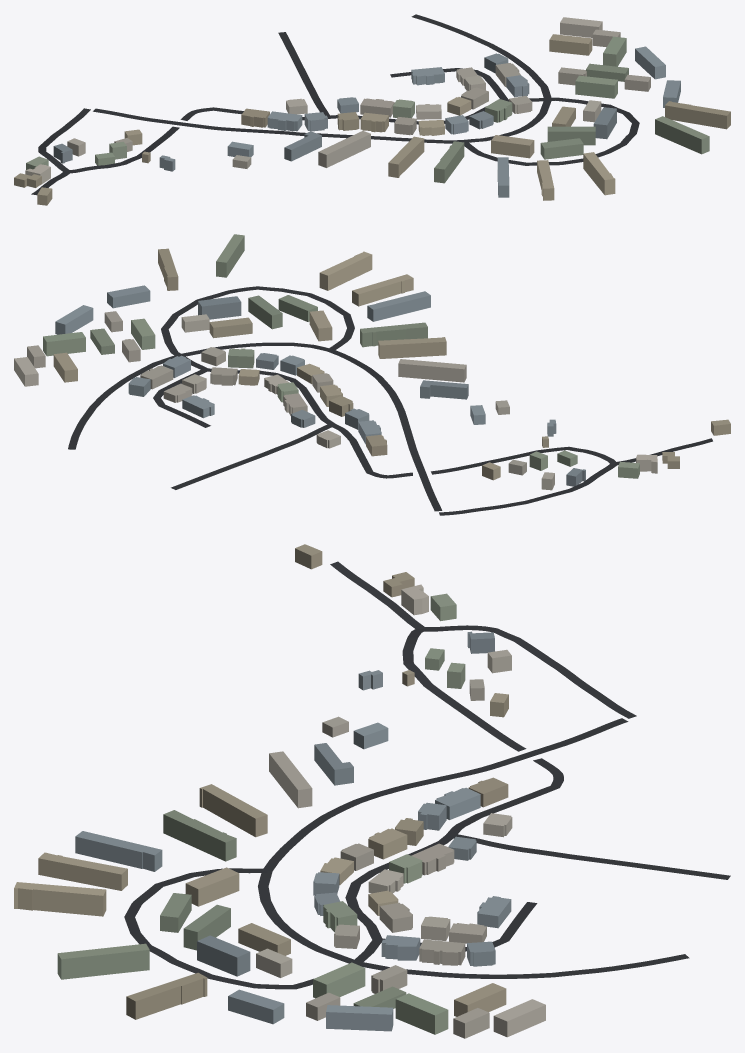
Rendered from tile_1_0.glb.
3 views of the same model, one above another, from view 1: azimuth 30°, elevation 25°; view 2: azimuth 150°, elevation 25°; view 3: azimuth 270°, elevation 25° (orthographic). The views are drawn at different scales.
Parts seen in each view (by area): view 1: bld_1_0, road_1_0; view 2: bld_1_0, road_1_0; view 3: bld_1_0, road_1_0.
Part boxes in pixels (x1=…): bld_1_0: x1=14, y1=17, x2=730, y2=205; road_1_0: x1=31, y1=14, x2=639, y2=195; bld_1_0: x1=14, y1=234, x2=730, y2=490; road_1_0: x1=68, y1=286, x2=712, y2=515; bld_1_0: x1=14, y1=544, x2=545, y2=1038; road_1_0: x1=124, y1=561, x2=730, y2=989.
Size of the model in its own units: 706 by 52.21 by 499.
